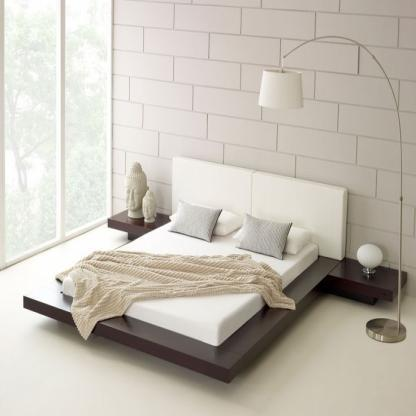Bed: (22, 158, 348, 387)
Lamp: (349, 238, 396, 280)
Nightstand: (326, 256, 407, 308), (106, 201, 168, 244)
